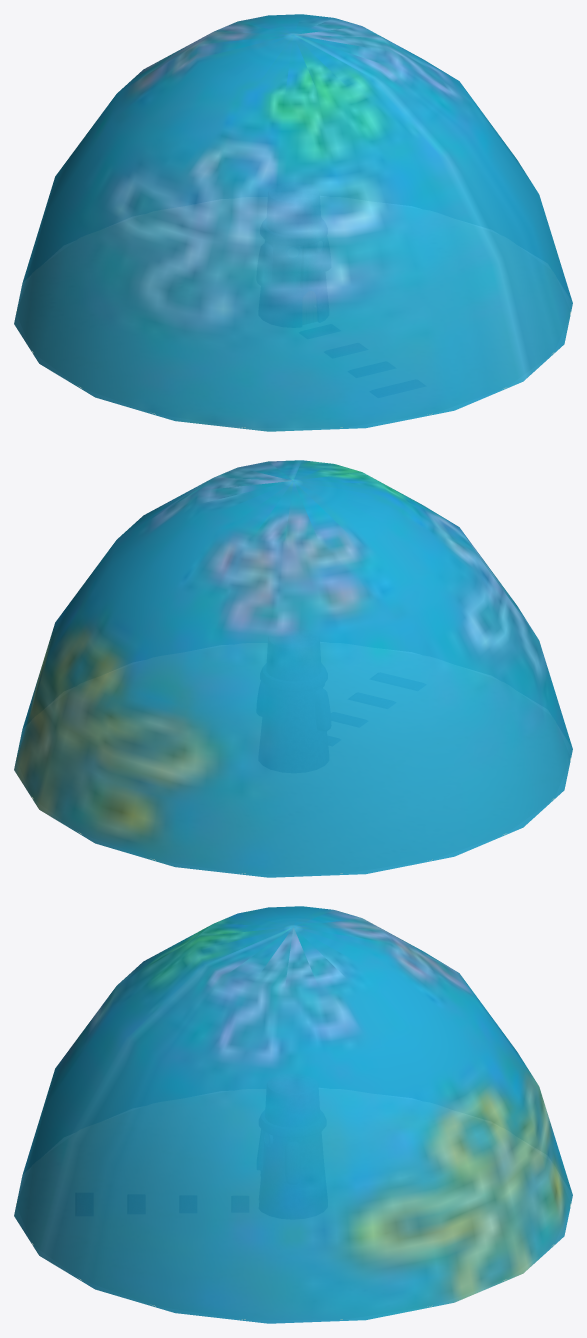
File: squidward-house-opt1.glb
3 renders of one model, top to bottom at view 1: azimuth 30°, elevation 25°; view 2: azimuth 150°, elevation 25°; view 3: azimuth 270°, elevation 25°, orthographic.
Visible parts, largest first — view 1: Skybox; view 2: Skybox; view 3: Skybox.
Part boxes in pixels (<box>): Skybox: <box>14,14,572,431</box>; Skybox: <box>14,460,572,877</box>; Skybox: <box>14,906,572,1323</box>.
Bounding box in the file's own units: 3.46 × 1.9 × 3.46.
Materials: 9 (5 with a texture image).
